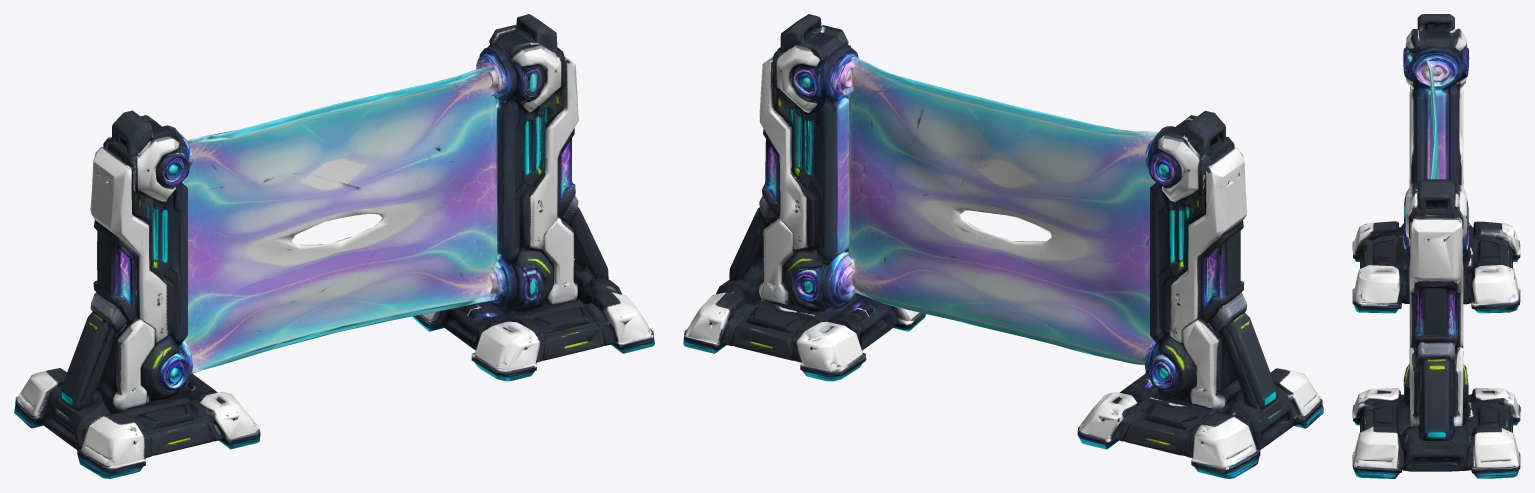
File: model-20-energy-barrier.glb
3 views of the same model, side by side, from view 1: azimuth 30°, elevation 25°; view 2: azimuth 150°, elevation 25°; view 3: azimuth 270°, elevation 25° (orthographic). The views are drawn at different scales.
Parts seen in each view (by area): view 1: node_0; view 2: node_0; view 3: node_0.
Part boxes in pixels (x1,y1,x2,y2): node_0: (14,14,654,478); node_0: (683,14,1323,478); node_0: (1352,14,1520,478).
Bounding box in the file's own units: 1.04 × 0.55 × 0.3165.
1 material, 1 textured.
